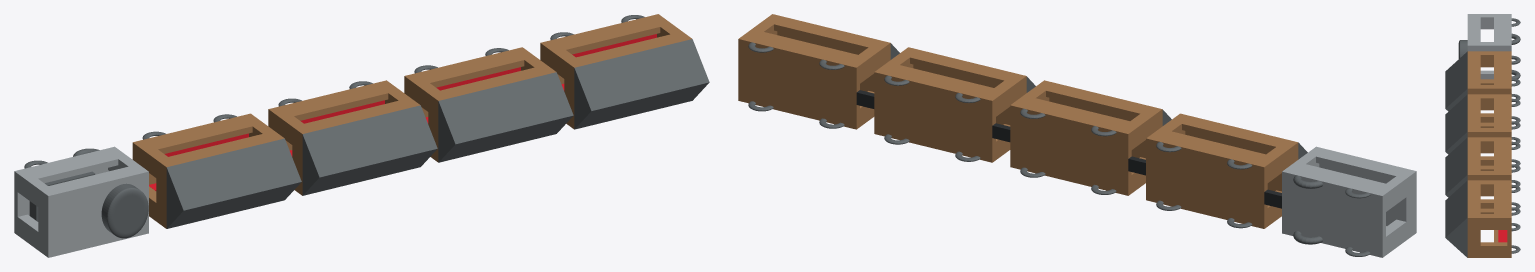
Rendered from tinker.obj.
3 renders of one model, left to right at view 1: azimuth 30°, elevation 25°; view 2: azimuth 150°, elevation 25°; view 3: azimuth 270°, elevation 25°, orthographic. The views are drawn at different scales.
Parts seen in each view (by area): view 1: group_0_6383466, group_0_11107152, group_0_10988977, group_0_15277357; view 2: group_0_11107152, group_0_10988977, group_0_6383466, group_0_2829873; view 3: group_0_11107152, group_0_6383466, group_0_10988977, group_0_15277357.
Part boxes in pixels (x1,y1,x2,y2): group_0_6383466: (24,15,709,238); group_0_11107152: (132,14,691,228); group_0_10988977: (14,146,148,257); group_0_15277357: (149,34,656,190); group_0_11107152: (738,14,1298,228); group_0_10988977: (1282,146,1416,257); group_0_6383466: (748,42,1370,256); group_0_2829873: (856,90,1281,208); group_0_11107152: (1467,51,1511,257); group_0_6383466: (1445,18,1520,257); group_0_10988977: (1467,14,1511,79); group_0_15277357: (1498,230,1507,242).
Bounding box in the file's own units: 109 × 10 × 17.
